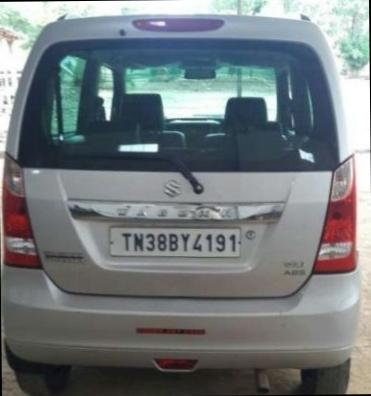plate: (103, 208, 258, 276)
